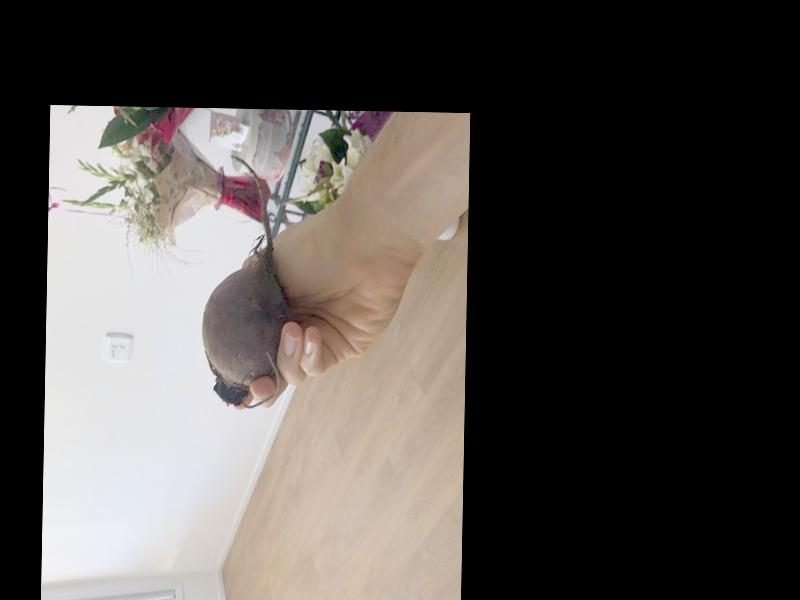Beet: (201, 155, 292, 409)
